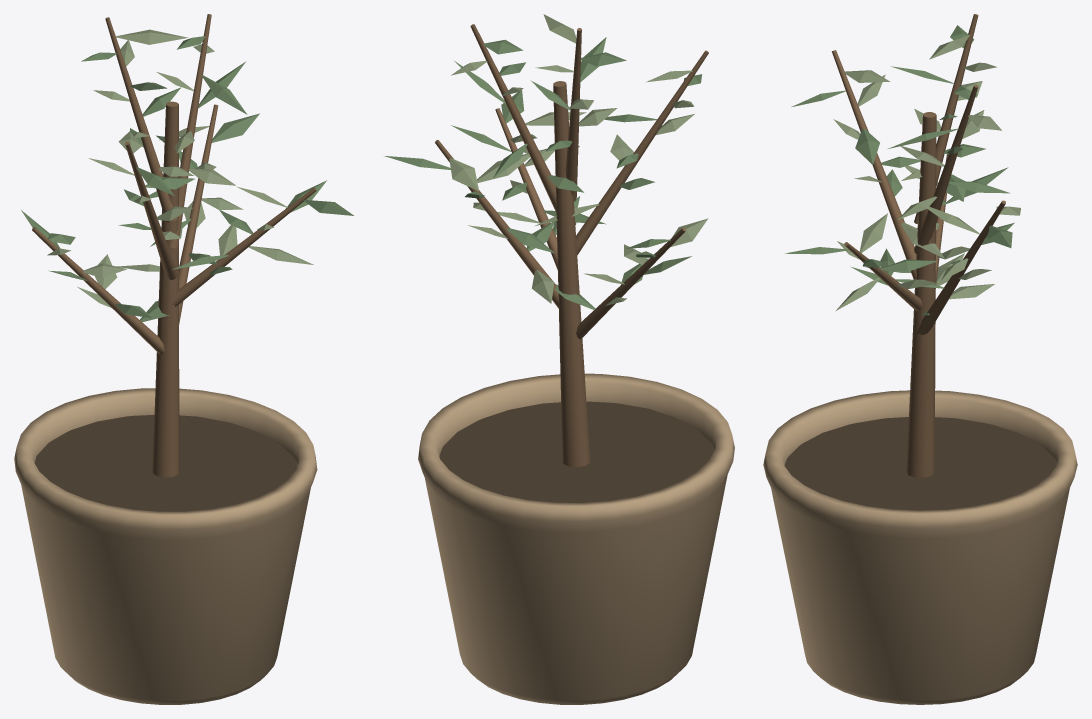
Rendered from plant-olive.glb.
The picture shows the model from 3 angles, left to right: view 1: azimuth 30°, elevation 25°; view 2: azimuth 150°, elevation 25°; view 3: azimuth 270°, elevation 25°; orthographic projection. The views are drawn at different scales.
Visible parts, largest first — view 1: plant-olive; view 2: plant-olive; view 3: plant-olive.
Part boxes in pixels (left/top/right/bottom): plant-olive: left=14, top=14, right=353, bottom=704; plant-olive: left=384, top=14, right=734, bottom=704; plant-olive: left=763, top=14, right=1077, bottom=704.
Bounding box in the file's own units: 0.55 × 1.22 × 0.55.
